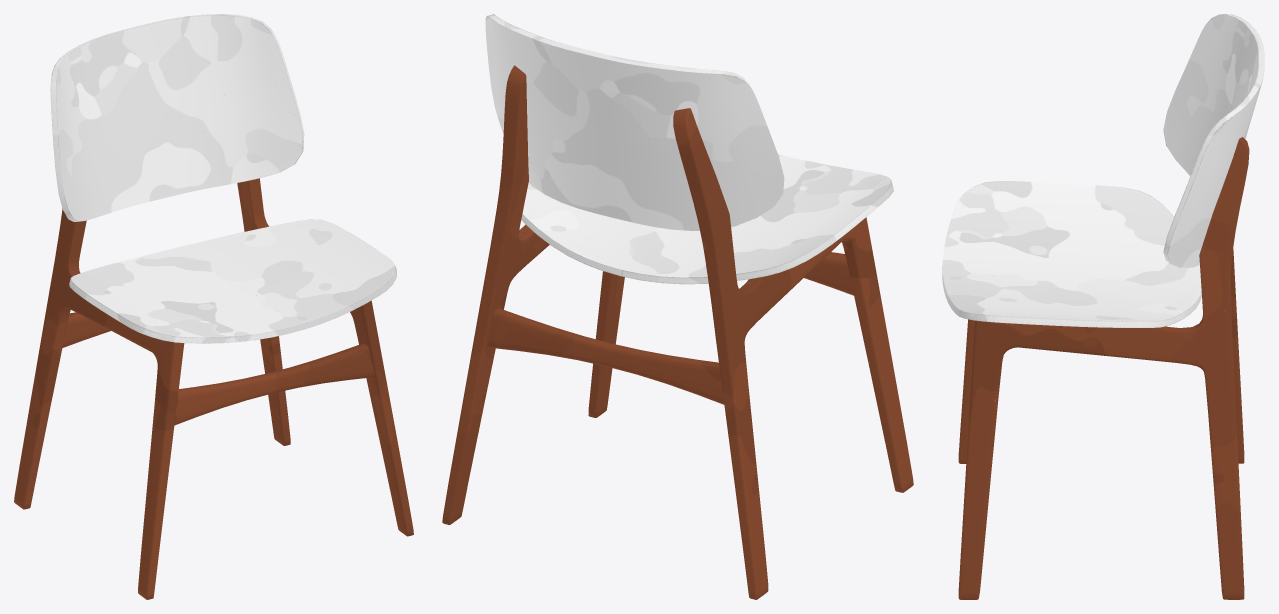
Rendered from ChairWooden.glb.
3 renders of one model, left to right at view 1: azimuth 30°, elevation 25°; view 2: azimuth 150°, elevation 25°; view 3: azimuth 270°, elevation 25°, orthographic. The views are drawn at different scales.
Parts seen in each view (by area): view 1: WoodenChair_GEO; view 2: WoodenChair_GEO; view 3: WoodenChair_GEO.
Boxes of the visible parts, x1,y1,x2,y2 form: WoodenChair_GEO: (14, 14, 413, 599); WoodenChair_GEO: (442, 14, 913, 599); WoodenChair_GEO: (942, 14, 1264, 599).
Size of the model in its own units: 0.5078 by 0.7969 by 0.4955.
1 material, 1 textured.
